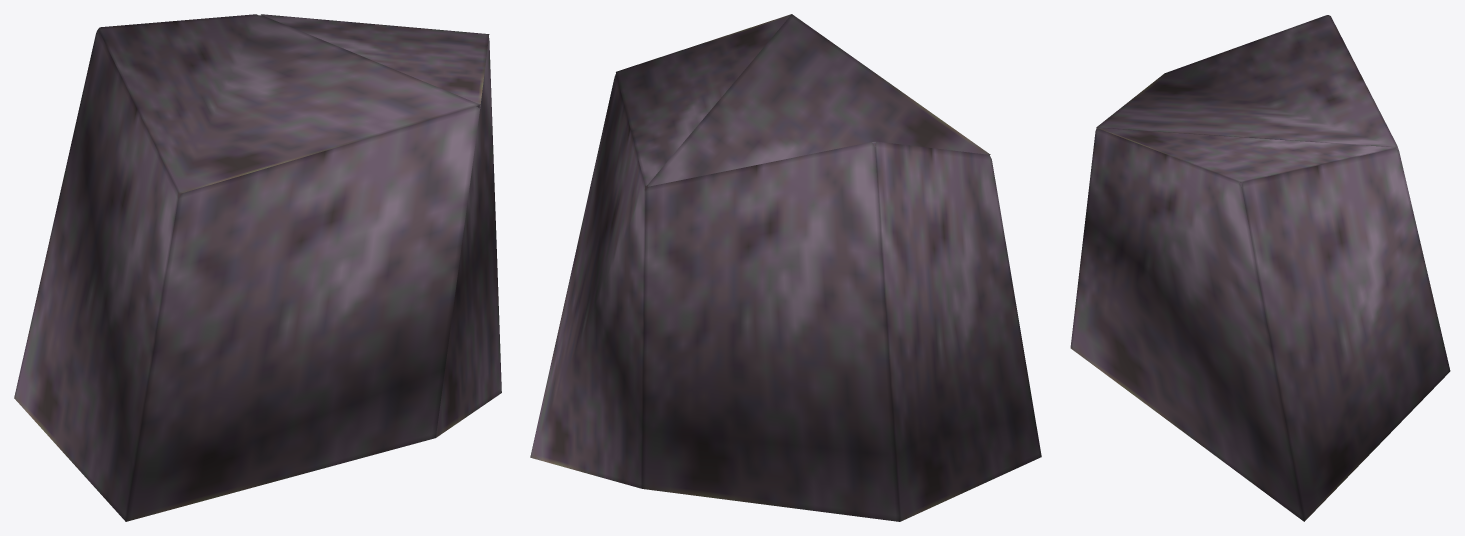
The picture shows the model from 3 angles, left to right: view 1: azimuth 30°, elevation 25°; view 2: azimuth 150°, elevation 25°; view 3: azimuth 270°, elevation 25°; orthographic projection. The views are drawn at different scales.
Parts seen in each view (by area): view 1: T1L8M006_6; view 2: T1L8M006_6; view 3: T1L8M006_6.
Part boxes in pixels (bbox=[...]): T1L8M006_6: bbox=[14, 14, 501, 521]; T1L8M006_6: bbox=[530, 14, 1041, 521]; T1L8M006_6: bbox=[1070, 15, 1450, 521].
Size of the model in its own units: 0.3281 by 0.3027 by 0.292.
